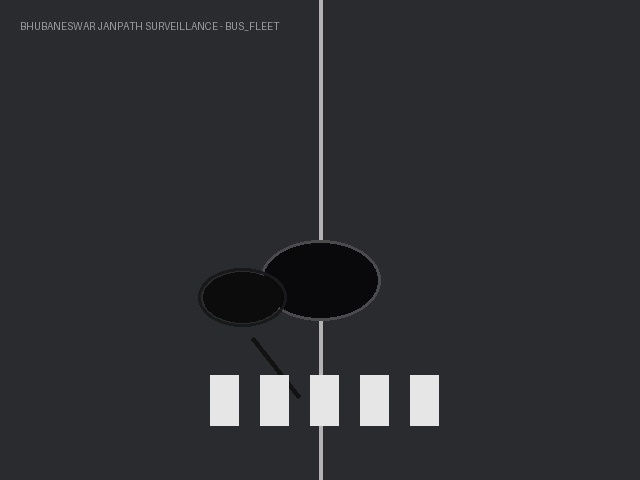crack: (247, 333, 304, 402)
pothole: (203, 272, 281, 322)
zebra_crossing: (190, 370, 450, 430)
